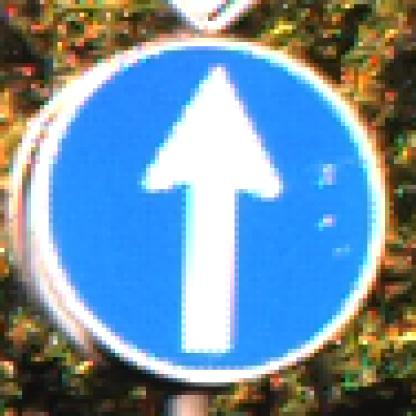AheadOnly: (37, 35, 382, 384)
